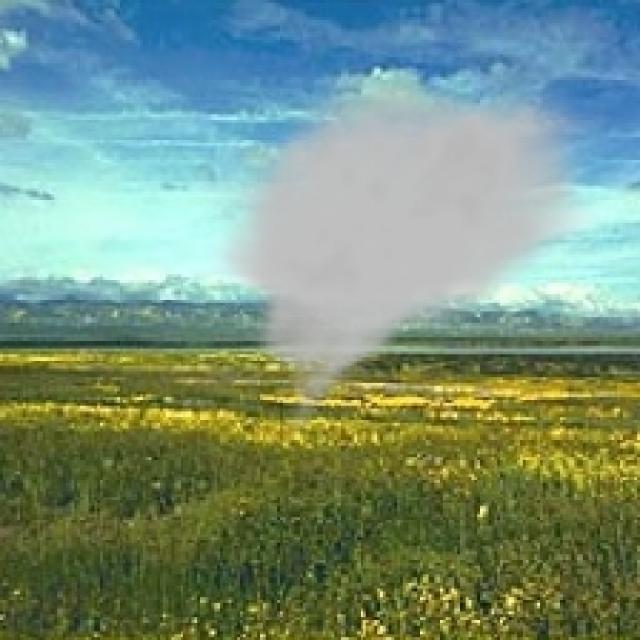Smoke: (206, 74, 608, 443)
